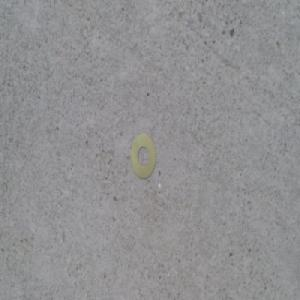Washer: (129, 132, 157, 182)
